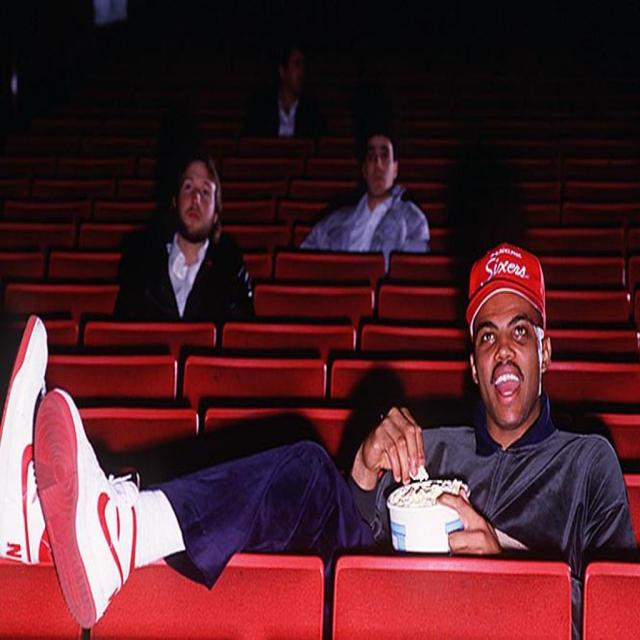nomask: (473, 291, 542, 430), (176, 162, 216, 228), (364, 137, 394, 196)
